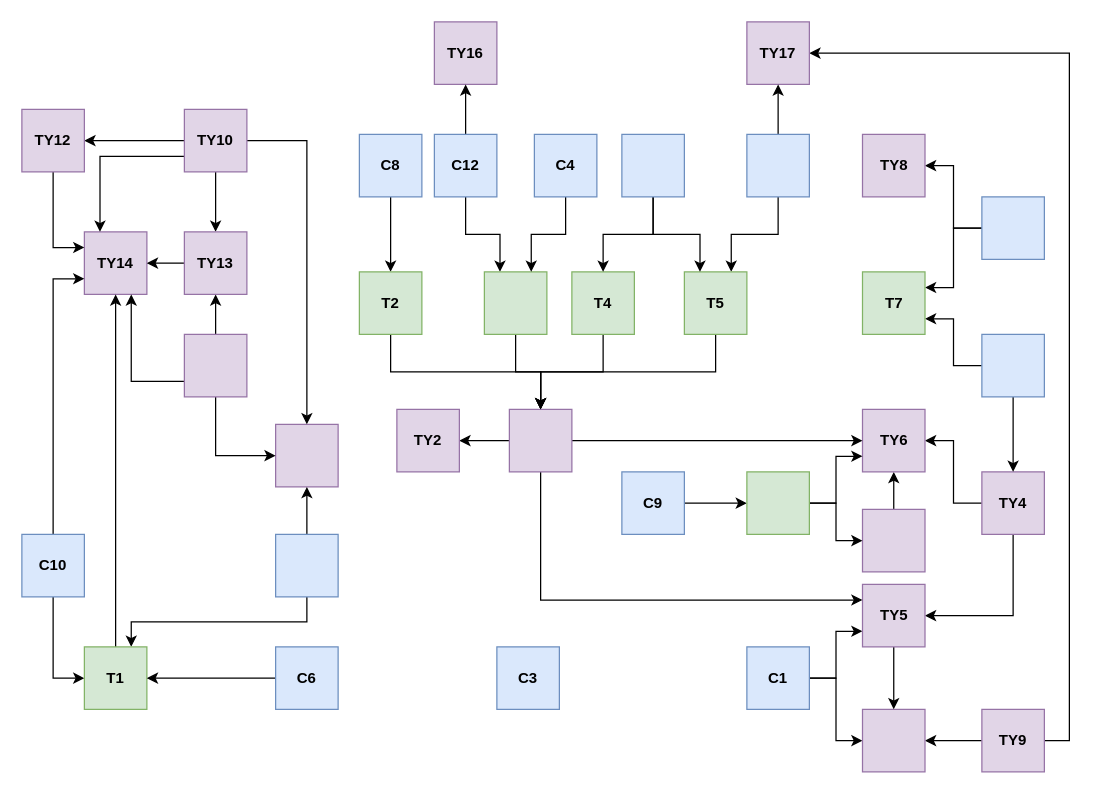
Image size: 1101x794. Some labels were removed from this diagram. The centre of each missing label's shape, as x and y in pixels:
C11: pixel 306 565
C13: pixel 777 165
C2: pixel 1012 365
C5: pixel 1012 227
C7: pixel 652 165
T3: pixel 515 302
T6: pixel 777 502
TY1: pixel 540 440
TY11: pixel 215 365
TY15: pixel 306 455
TY3: pixel 893 540
TY7: pixel 893 740
